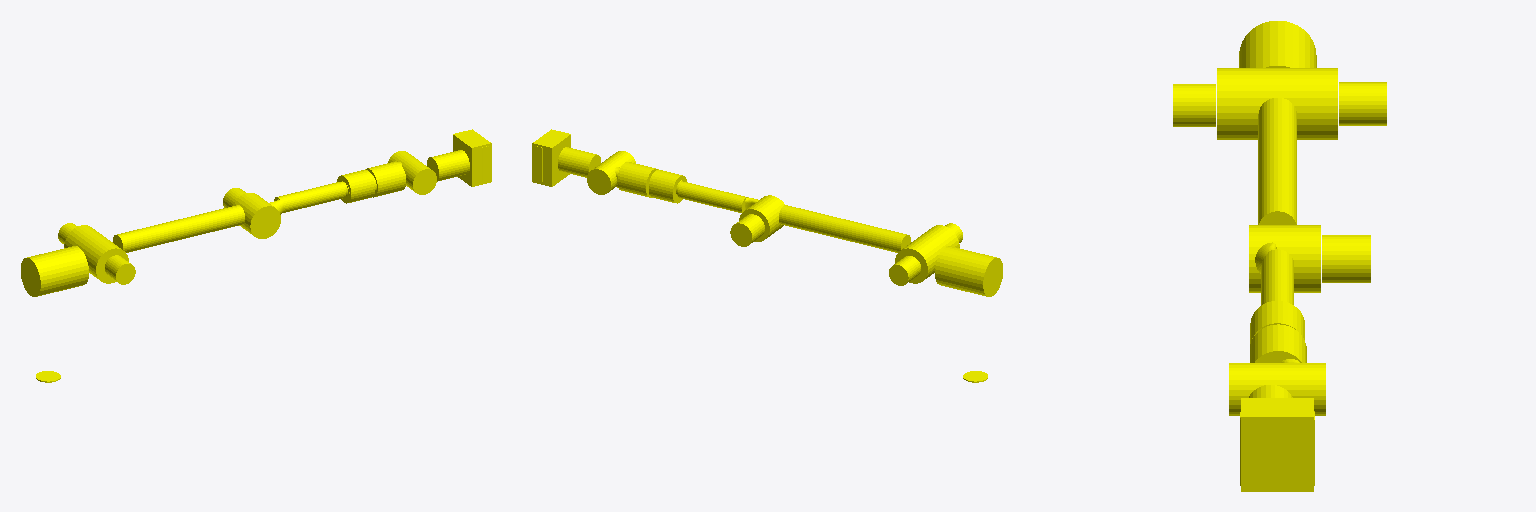
robot.urdf — Sherpa_tt:
<?xml version="1.0"?>
<robot name="Sherpa_tt">
    <material name="Yellow">
        <color rgba="1.0 1.0 0.0 0.5"/>
    </material>
    <material name="Gray">
        <color rgba="0.85 0.85 0.85 1.0"/>
    </material>
    <material name="Black">
        <color rgba="0 0 0 1.0"/>
    </material>

	<!-- Rover -->

    <link name="body">        
        <inertial>
            <origin xyz="0 0 0" rpy="0 0 0"/>
            <mass value="14.1"/>
            <inertia ixx="0" ixy="0" ixz="0" iyy="0" iyz="0" izz="0"/>
        </inertial>
    </link>


    <!-- Manipulator -->

	<!-- Arm mount dummy joint -->
    <joint name="arm_mount_joint" type="fixed">                
            <origin xyz="0.0 0.0 0.0" rpy="0 0 0"/>
            <axis xyz="0 0 1" rpy="0 0 0"/>
            <parent link="body"/>
            <child link="arm_mount_link"/>
            <limit lower="-3.1415926535897931" upper="3.1415926535897931" effort="10" velocity="3.1415926535897931"/>
    </joint>

    <link name="arm_mount_link">
            <visual>
                    <material name="Yellow"/>
                    <origin xyz="0 0 0 " rpy="0 0 0"/>
                    <geometry>
                            <cylinder length="0.005" radius="0.05"/>
                    </geometry>
            </visual>
    </link>

    <link name="arm_link_1">
        <inertial>
            <origin xyz="0 0 0.0" rpy="0 0 0"/>
            <mass value="5.0"/>
            <inertia ixx="0" ixy="0" ixz="0" iyy="0" iyz="0" izz="0"/>
        </inertial>
        <visual>
            <material name="Yellow"/>
            <origin xyz="0 0 0.0" rpy="0 0 0"/>
            <geometry>
                <mesh filename="./meshes/manipulator/sherpa_arm_joint_1.stl" scale="0.001 0.001 0.001"/>
            </geometry>
        </visual>
        <visual>
            <material name="Yellow"/>
            <origin xyz="0.22 0 0.48" rpy="0 1.570796327 1.570796327"/>
            <geometry>
                <!--mesh filename="./meshes/manipulator/sherpa_arm_joint_1.stl" scale="0.001 0.001 0.001" /-->
                <cylinder length="0.25" radius="0.075"/>
            </geometry>
        </visual>
        <visual>
            <material name="Yellow"/>
            <origin xyz="0.22 0.176 0.48" rpy="0 1.570796327 1.570796327"/>
            <geometry>
                <!--mesh filename="./meshes/manipulator/sherpa_arm_joint_1.stl" scale="0.001 0.001 0.001" /-->
                <cylinder length="0.1" radius="0.045"/>
            </geometry>
        </visual>
        <visual>
            <material name="Yellow"/>
            <origin xyz="0.2275 -0.172 0.48" rpy="0 1.570796327 1.570796327"/>
            <geometry>
                <!--mesh filename="./meshes/manipulator/sherpa_arm_joint_1.stl" scale="0.001 0.001 0.001" /-->
                <cylinder length="0.09" radius="0.045"/>
            </geometry>
        </visual>
        <visual>
            <material name="Yellow"/>
            <origin xyz="0.03 0.0 0.45" rpy="0 1.570796327 0"/>
            <geometry>
                <cylinder length="0.22" radius="0.08"/>
                <!--cylinder length="0.24" radius="0.08"/-->
            </geometry>
        </visual>
	<collision>
            <material name="Yellow"/>
            <origin xyz="0.22 0 0.48" rpy="0 1.570796327 1.570796327"/>
            <geometry>
                <cylinder length="0.25" radius="0.075"/>
            </geometry>
        </collision>
        <collision>
            <material name="Yellow"/>
            <origin xyz="0.22 0.176 0.48" rpy="0 1.570796327 1.570796327"/>
            <geometry>
                <cylinder length="0.1" radius="0.045"/>
            </geometry>
        </collision>
        <collision>
            <material name="Yellow"/>
            <origin xyz="0.2275 -0.172 0.48" rpy="0 1.570796327 1.570796327"/>
            <geometry>
                <cylinder length="0.09" radius="0.045"/>
            </geometry>
        </collision>
        <collision>
            <material name="Yellow"/>
            <origin xyz="0.03 0.0 0.45" rpy="0 1.570796327 0"/>
            <geometry>
                <cylinder length="0.22" radius="0.08"/>
            </geometry>
    </collision>
    </link>
    <joint name="arm_joint_1" type="revolute">
        <parent link="arm_mount_link"/>
        <child link="arm_link_1"/>
        <origin xyz="0 0 0.0" rpy="0 0 0"/>
        <axis xyz="0 0 1"/>
        <limit lower="-3.05432" upper="+3.05432" effort="1" velocity="3.1415926535897931"/>
    </joint>

    <link name="arm_link_2">
        <inertial>
            <origin xyz="0 0 0.0" rpy="0 0 0.0"/>
            <mass value="5.0"/>
            <inertia ixx="0" ixy="0" ixz="0" iyy="0" iyz="0" izz="0"/>
        </inertial>
        <visual>
            <material name="Yellow"/>
            <origin xyz="0 0 0.0" rpy="0 0 0"/>
            <geometry>
                <mesh filename="./meshes/manipulator/sherpa_arm_joint_2.stl" scale="0.001 0.001 0.001"/>
            </geometry>
        </visual>
        <visual>
            <material name="Yellow"/>
            <origin xyz="0.37 0.0 0.0" rpy="0 1.570796327 0"/>
            <geometry>
                <cylinder length="0.555" radius="0.04"/>
            </geometry>
        </visual>
        <visual>
            <material name="Yellow"/>
            <origin xyz="0.73 0.03 0.015" rpy="0 0 0"/>
            <geometry>
                <cylinder length="0.148" radius="0.07"/>
            </geometry>
        </visual>
        <visual>
            <material name="Yellow"/>
            <origin xyz="0.73 0.03 0.142" rpy="0 0 0"/>
            <geometry>
                <cylinder length="0.1" radius="0.05"/>
            </geometry>
        </visual>
        <collision>
            <material name="Yellow"/>
            <origin xyz="0.37 0.0 0.0" rpy="0 1.570796327 0"/>
            <geometry>
                <cylinder length="0.555" radius="0.04"/>
            </geometry>
        </collision>
        <collision>
            <material name="Yellow"/>
            <origin xyz="0.73 0.03 0.015" rpy="0 0 0"/>
            <geometry>
                <cylinder length="0.148" radius="0.07"/>
            </geometry>
        </collision>
        <collision>
            <material name="Yellow"/>
            <origin xyz="0.73 0.03 0.142" rpy="0 0 0"/>
            <geometry>
                <cylinder length="0.1" radius="0.05"/>
            </geometry>
        </collision>
    </link>
    <joint name="arm_joint_2" type="revolute">
        <parent link="arm_link_1"/>
        <child link="arm_link_2"/>
        <origin xyz="0.225 0 0.50" rpy="-1.570796327 0 0"/>
        <axis xyz="0 0 1"/>
        <limit lower="-2.094395102" upper="+1.047197551" effort="1" velocity="3.1415926535897931"/>
        
    </joint>

    <link name="arm_link_3">
        <inertial>
            <origin xyz="0 0 0.0" rpy="0 0 0"/>
            <mass value="5.0"/>
            <inertia ixx="0" ixy="0" ixz="0" iyy="0" iyz="0" izz="0"/>
        </inertial>
        <visual>
            <material name="Yellow"/>
            <origin xyz="0 0 0.0" rpy="0 0 0"/>
            <geometry>
                <mesh filename="./meshes/manipulator/sherpa_arm_joint_3.stl" scale="0.001 0.001 0.001"/>
            </geometry>
        </visual>
        <visual>
            <material name="Yellow"/>
            <origin xyz="0.23 0 0.03" rpy="0 1.570796327 0"/>
            <geometry>
                <cylinder length="0.29" radius="0.034"/>
            </geometry>
        </visual>
        <visual>
            <material name="Yellow"/>
            <origin xyz="0.44 0 0.03" rpy="0 1.570796327 0"/>
            <geometry>
                <cylinder length="0.11" radius="0.057"/>
            </geometry>
        </visual>
        <collision>
            <material name="Yellow"/>
            <origin xyz="0.23 0 0.03" rpy="0 1.570796327 0"/>
            <geometry>
                <cylinder length="0.29" radius="0.034"/>
            </geometry>
        </collision>
        <collision>
            <material name="Yellow"/>
            <origin xyz="0.44 0 0.03" rpy="0 1.570796327 0"/>
            <geometry>
                <cylinder length="0.11" radius="0.057"/>
            </geometry>
        </collision>
    </link>
    <joint name="arm_joint_3" type="revolute">
        <parent link="arm_link_2"/>
        <child link="arm_link_3"/>
        <origin xyz="0.735 0.030 0" rpy="1.570796327 0 0"/>
        <axis xyz="0 1 0"/>
        <limit lower="-1.919862177" upper="+3.001966313" effort="1" velocity="3.1415926535897931"/>
    </joint>

    <link name="arm_link_4">
        <inertial>
            <origin xyz="0 0 0.0" rpy="0 0 0"/>
            <mass value="5.0"/>
            <inertia ixx="0" ixy="0" ixz="0" iyy="0" iyz="0" izz="0"/>
        </inertial>
        <visual>
            <material name="Yellow"/>
            <origin xyz="0 0 0.0" rpy="0 0 0"/>
            <geometry>
                <mesh filename="./meshes/manipulator/sherpa_arm_joint_4.stl" scale="0.001 0.001 0.001"/>
            </geometry>
        </visual>
        <visual>
            <material name="Yellow"/>
            <origin xyz="-0.125 0.0 0.001" rpy="0 1.570796327 0"/>
            <geometry>
                <cylinder length="0.13" radius="0.059"/>
            </geometry>
        </visual>
        <visual>
            <material name="Yellow"/>
            <origin xyz="0.0 0.0 0.0" rpy="0 0 0"/>
            <geometry>
                <cylinder length="0.2" radius="0.055"/>
            </geometry>
        </visual>
        <collision>
            <material name="Yellow"/>
            <origin xyz="-0.125 0.0 0.001" rpy="0 1.570796327 0"/>
            <geometry>
                <cylinder length="0.13" radius="0.059"/>
            </geometry>
        </collision>
        <collision>
            <material name="Yellow"/>
            <origin xyz="0.0 0.0 0.0" rpy="0 0 0"/>
            <geometry>
                <cylinder length="0.2" radius="0.055"/>
            </geometry>
        </collision>
    </link>
    <joint name="arm_joint_4" type="revolute">
        <parent link="arm_link_3"/>
        <child link="arm_link_4"/>
        <origin xyz="0.695 0.0 0.03 " rpy="-1.570796327 0 0"/>
        <axis xyz="1 0 0"/>
        <limit lower="-3.490658504" upper="+3.490658504" effort="1" velocity="3.1415926535897931"/>
    </joint>

    <link name="arm_link_5">
        <inertial>
            <origin xyz="0 0 0.0" rpy="0 0 0"/>
            <mass value="5.0"/>
            <inertia ixx="0" ixy="0" ixz="0" iyy="0" iyz="0" izz="0"/>
        </inertial>
        <visual>
            <material name="Yellow"/>
            <origin xyz="0 0 0.0" rpy="0 0 0"/>
            <geometry>
                <mesh filename="./meshes/manipulator/sherpa_arm_joint_5.stl" scale="0.001 0.001 0.001"/>
            </geometry>
        </visual>
        <visual>
            <material name="Yellow"/>
            <origin xyz="0.155 -0.015 0" rpy="0 1.570796327 0"/>
            <geometry>
                <cylinder length="0.14" radius="0.05"/>
            </geometry>
        </visual>
        <collision>
            <material name="Yellow"/>
            <origin xyz="0.155 -0.015 0" rpy="0 1.570796327 0"/>
            <geometry>
                <cylinder length="0.14" radius="0.05"/>
            </geometry>
        </collision>
    </link>
    <joint name="arm_joint_5" type="revolute">
        <parent link="arm_link_4"/>
        <child link="arm_link_5"/>
        <origin xyz="0.0 0 0.0" rpy="1.570796327 0 0"/>
        <axis xyz="0 1 0"/>
        <limit lower="-2.268928028" upper="+2.268928028" effort="1" velocity="3.1415926535897931"/>
    </joint>

    <link name="arm_link_6">
        <inertial>
            <origin xyz="0 0 0.0" rpy="0 0 0"/>
            <mass value="5.0"/>
            <inertia ixx="0" ixy="0" ixz="0" iyy="0" iyz="0" izz="0"/>
        </inertial>
        <visual>
            <material name="Yellow"/>
            <origin xyz="0 0 0.0" rpy="0 0 0"/>
            <geometry>
                <mesh filename="./meshes/manipulator/sherpa_arm_joint_6.stl" scale="0.001 0.001 0.001"/>
            </geometry>
        </visual>
        <visual>
            <material name="Yellow"/>
            <origin xyz="0.0 0 -0.04" rpy="0 0 0"/>
            <geometry>
                <!--mesh filename="./meshes/manipulator/sherpa_arm_joint_6.stl" scale="0.001 0.001 0.001"/-->
                <box size="0.17 0.15 0.09"/>
            </geometry>
        </visual>
        <collision>
            <material name="Yellow"/>
            <origin xyz="0.0 0 -0.04" rpy="0 0 0"/>
            <geometry>
                <!--mesh filename="./meshes/manipulator/sherpa_arm_joint_6.stl" scale="0.001 0.001 0.001"/-->
                <box size="0.17 0.15 0.09"/>
            </geometry>
        </collision>
    </link>
    <joint name="arm_joint_6" type="revolute">
        <parent link="arm_link_5"/>
        <child link="arm_link_6"/>
        <origin xyz="0.312 0 0.0" rpy="-1.570796327 -1.570796327 -1.570796327"/>
        <axis xyz="0 0 1"/>
        <limit lower="-3.490658504" upper="+3.490658504" effort="1" velocity="3.1415926535897931"/>
    </joint>
</robot>

--- Render facts (derived) ---
3 views of the same robot in one strip: view 1: azimuth 30°, elevation 25°; view 2: azimuth 150°, elevation 25°; view 3: azimuth 270°, elevation 25° (orthographic).
Robot: Sherpa_tt — 8 links, 7 joints (6 revolute, 1 fixed); root link body; default pose: every joint at zero.
Links seen in each view (by area): view 1: arm_link_1, arm_link_2, arm_link_3, arm_link_4, arm_link_6, arm_link_5; view 2: arm_link_1, arm_link_2, arm_link_3, arm_link_4, arm_link_6, arm_link_5; view 3: arm_link_1, arm_link_2, arm_link_6, arm_link_4, arm_link_3.
Link boxes in pixels (bbox=[...]): arm_link_1: bbox=[21, 223, 135, 296]; arm_link_2: bbox=[113, 188, 280, 252]; arm_link_3: bbox=[269, 169, 374, 214]; arm_link_4: bbox=[344, 151, 436, 197]; arm_link_6: bbox=[453, 129, 491, 186]; arm_link_5: bbox=[427, 150, 469, 181]; arm_link_1: bbox=[889, 223, 1002, 296]; arm_link_2: bbox=[730, 195, 910, 252]; arm_link_3: bbox=[649, 169, 758, 212]; arm_link_4: bbox=[587, 151, 681, 197]; arm_link_6: bbox=[532, 129, 570, 186]; arm_link_5: bbox=[558, 147, 600, 177]; arm_link_1: bbox=[1173, 21, 1386, 139]; arm_link_2: bbox=[1249, 98, 1370, 292]; arm_link_6: bbox=[1240, 398, 1314, 491]; arm_link_4: bbox=[1229, 324, 1325, 415]; arm_link_3: bbox=[1250, 242, 1304, 343].
Size in the robot's own frame: 2.05 by 0.443 by 0.5875 metres.
Meshes: 6 distinct files referenced, 3 mesh visuals loaded (3 binary STL); not drawn: 3 (reference not matched to a file when rendering).